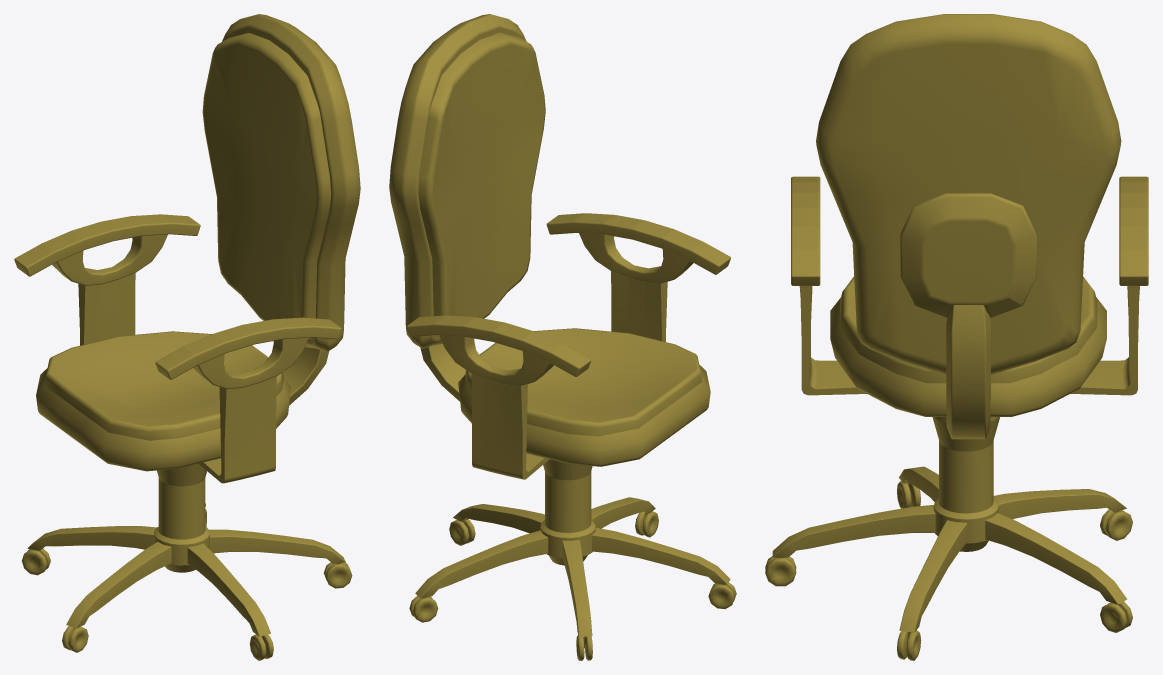
The model's file is Sedia LowPoly.fbx.
3 views of the same model, side by side, from view 1: azimuth 30°, elevation 25°; view 2: azimuth 150°, elevation 25°; view 3: azimuth 270°, elevation 25° (orthographic). The views are drawn at different scales.
Parts seen in each view (by area): view 1: sedia_ufficio:Sedia_Ufficio; view 2: sedia_ufficio:Sedia_Ufficio; view 3: sedia_ufficio:Sedia_Ufficio.
Part boxes in pixels (x1,y1,x2,y2): sedia_ufficio:Sedia_Ufficio: [14, 14, 360, 660]; sedia_ufficio:Sedia_Ufficio: [389, 14, 736, 660]; sedia_ufficio:Sedia_Ufficio: [765, 14, 1148, 660].
Size of the model in its own units: 4.04 by 7.17 by 3.95.
